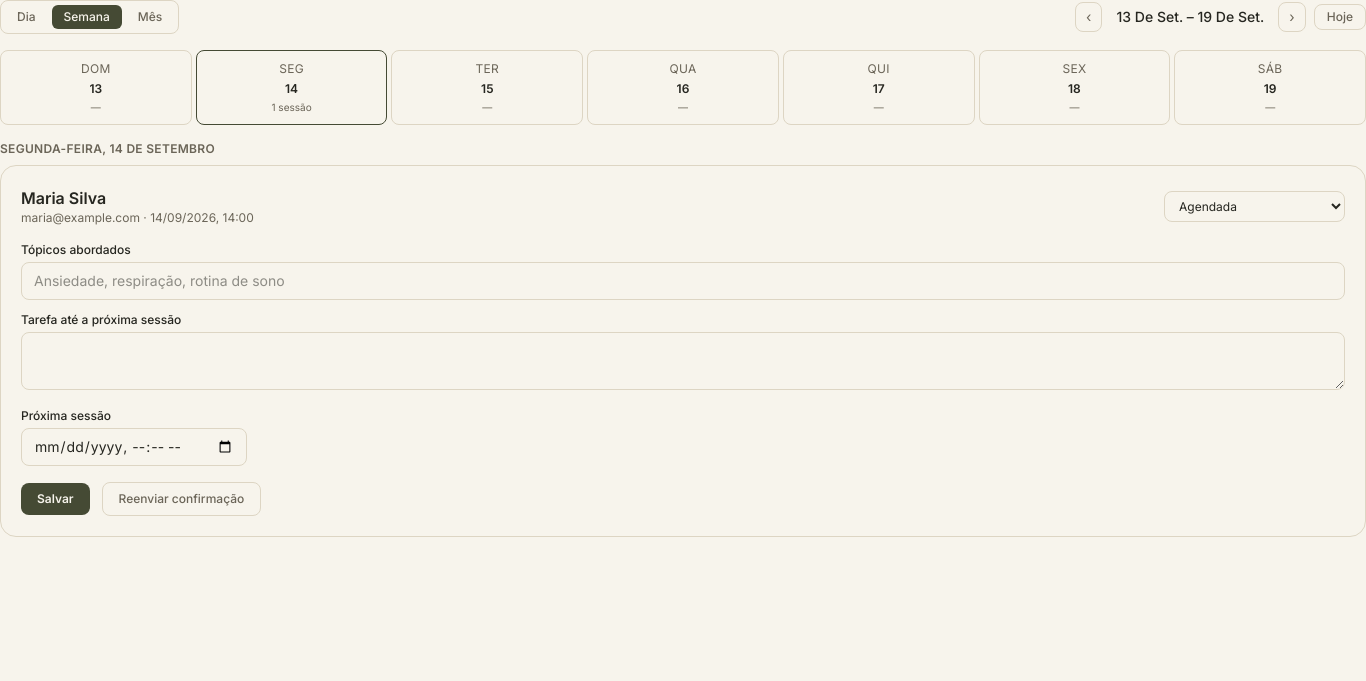
Scenario: AgendaCalendar › clicking a day in month view switches to day view and filters sessions
This screenshot has width=1366, height=681.
Click the button "Mês" at (150, 17), box [126, 5, 174, 29]
(page scrolled)
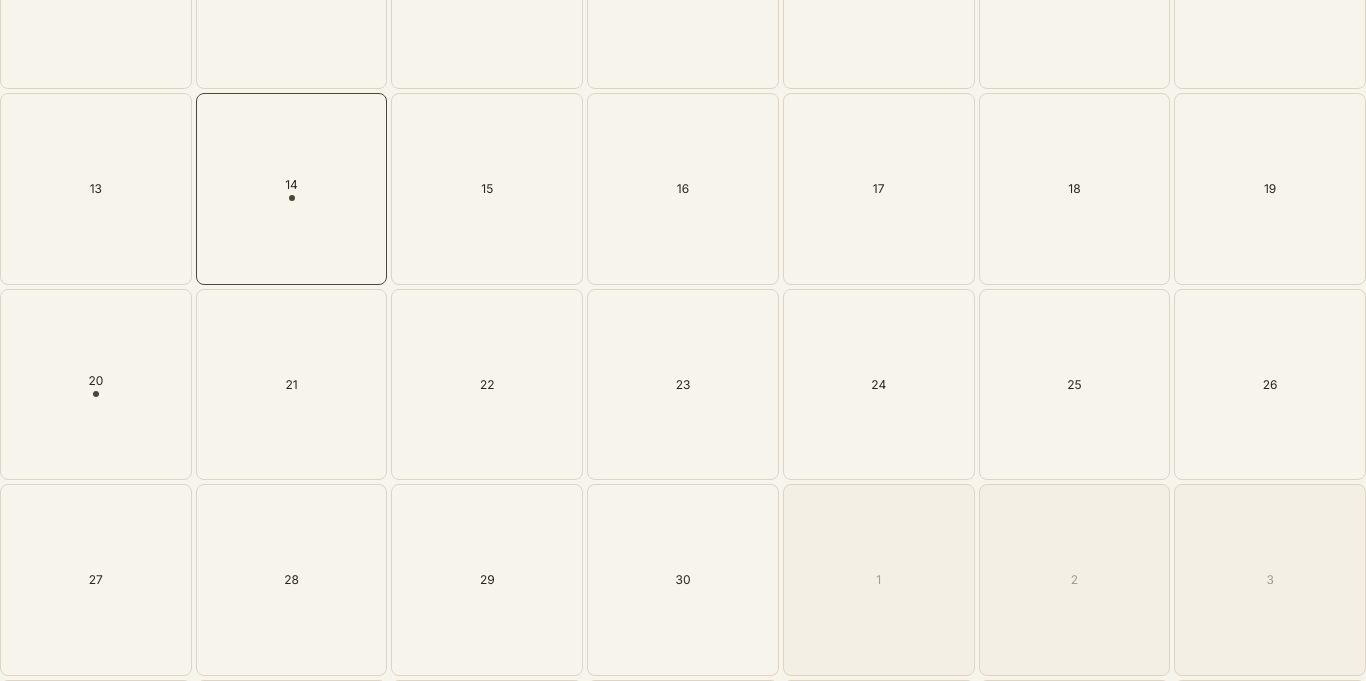
Click the button named "Dia 20" at (96, 385), box [0, 289, 192, 480]
(page scrolled)
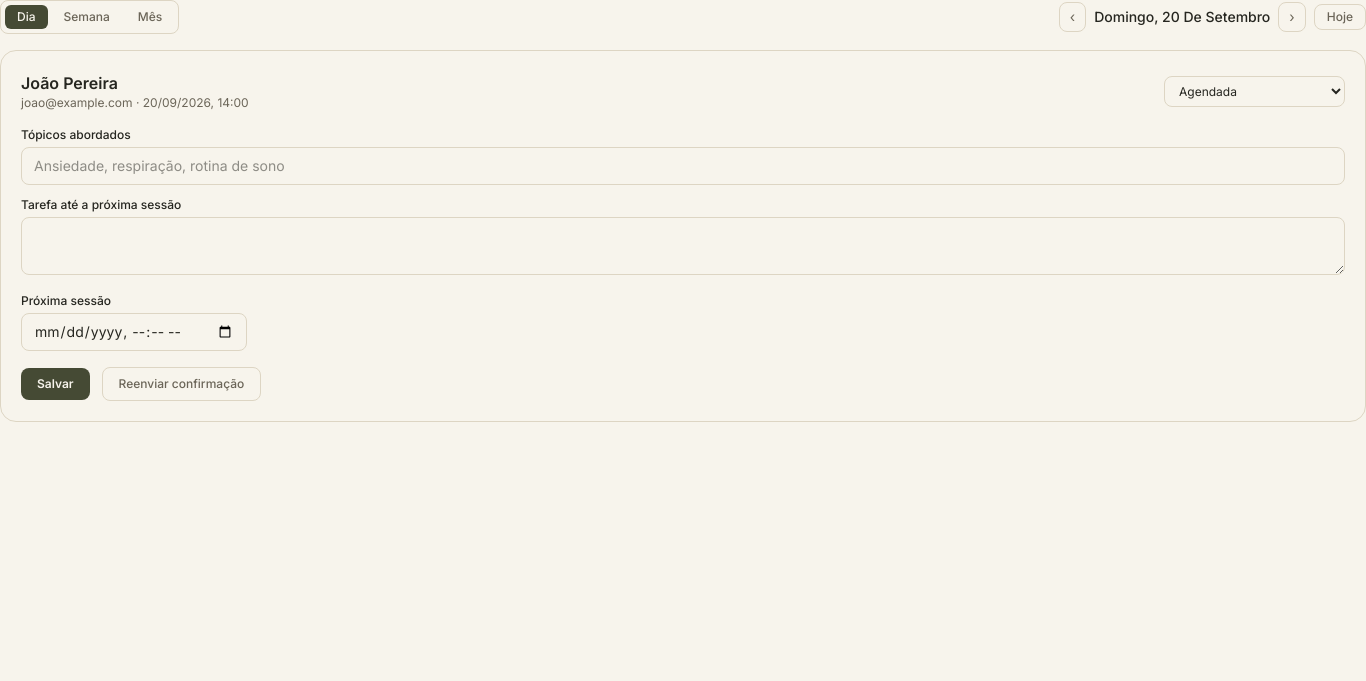
Expected: the text "Maria Silva" is not shown
Expected: the text "João Pereira" is shown, [21, 73, 118, 93]
